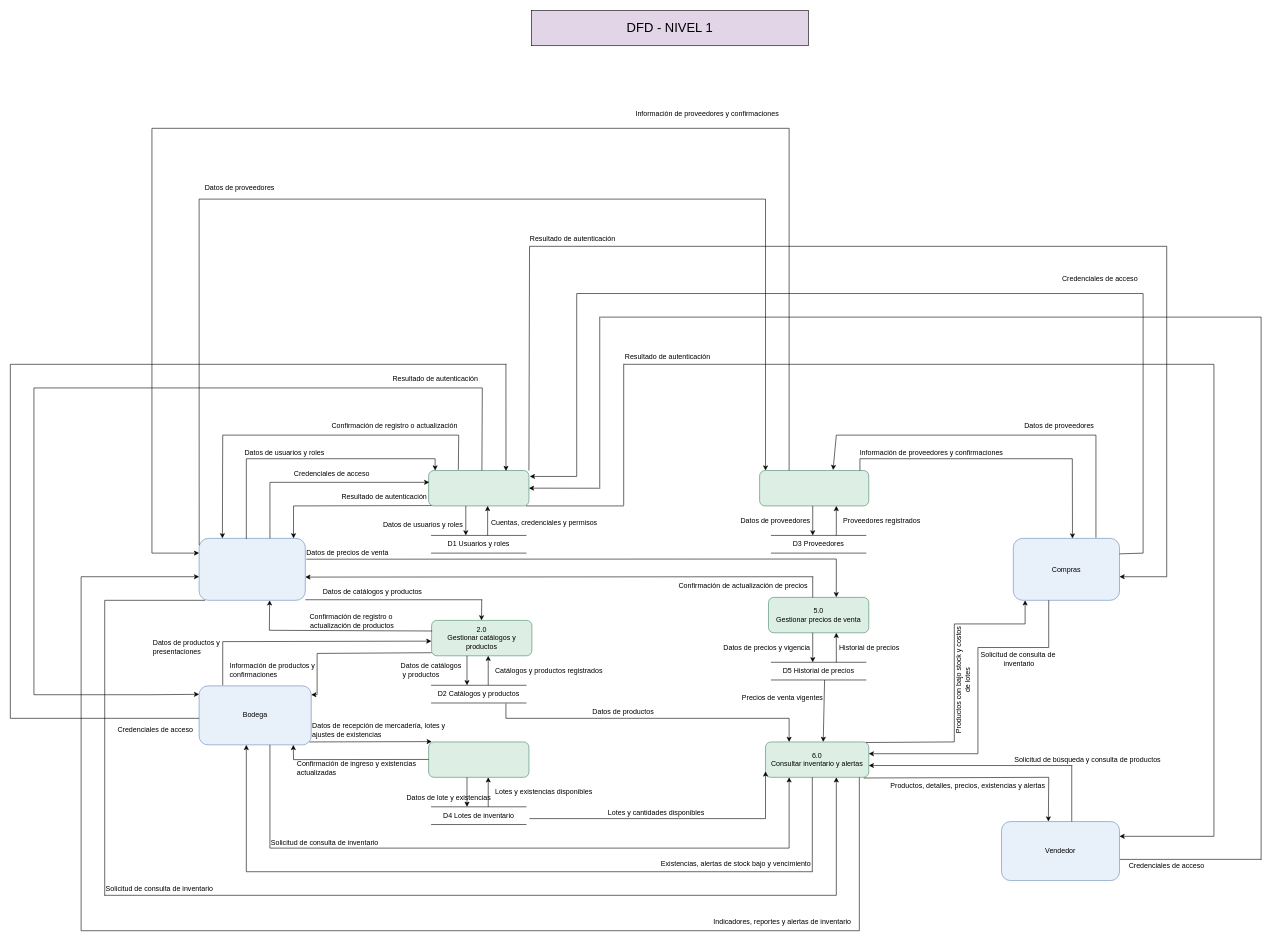
Some shapes in this 1272 by 942 pixel diagram are drawn without their labels. Each missing label, with the box of its shape:
1.0 Gestionar usuarios y accesos: (428, 470, 529, 506)
3.0 Gestionar proveedores: (759, 470, 869, 506)
4.0 Gestionar lotes y existencias: (428, 741, 529, 777)
Administrador: (199, 538, 305, 600)
